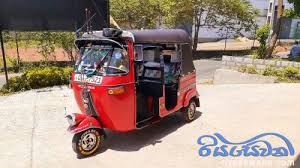tuk tuk: (62, 29, 202, 159)
